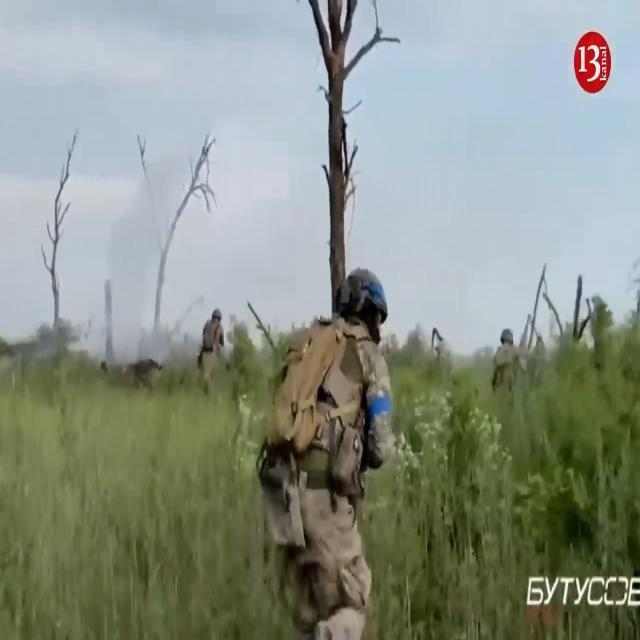MIL_Pax: (260, 269, 395, 639), (197, 309, 224, 383), (492, 329, 519, 390)
